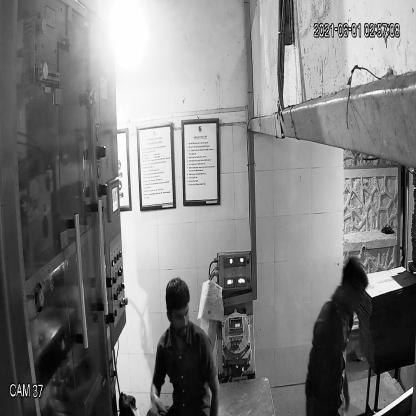no_goggles: (163, 303, 192, 326)
